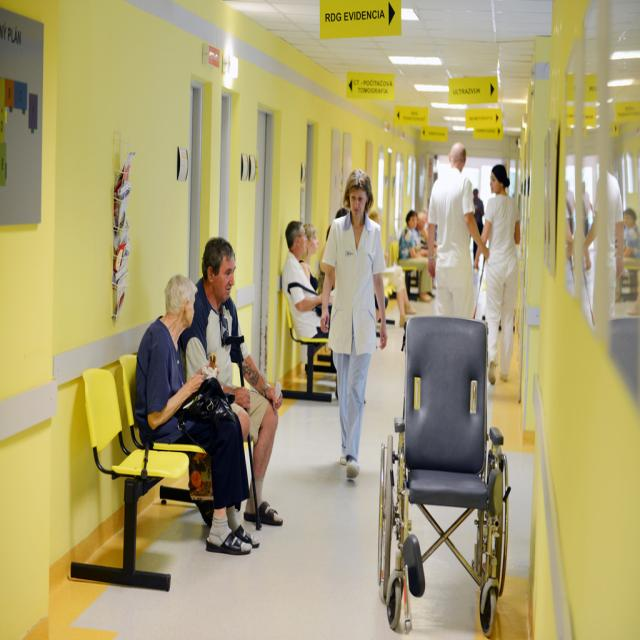wheelchairs: (381, 313, 510, 640)
